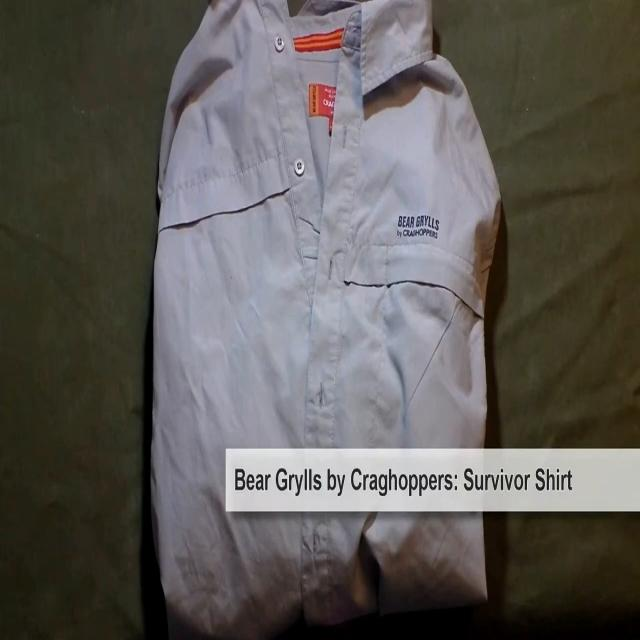shirt: (148, 0, 502, 640)
